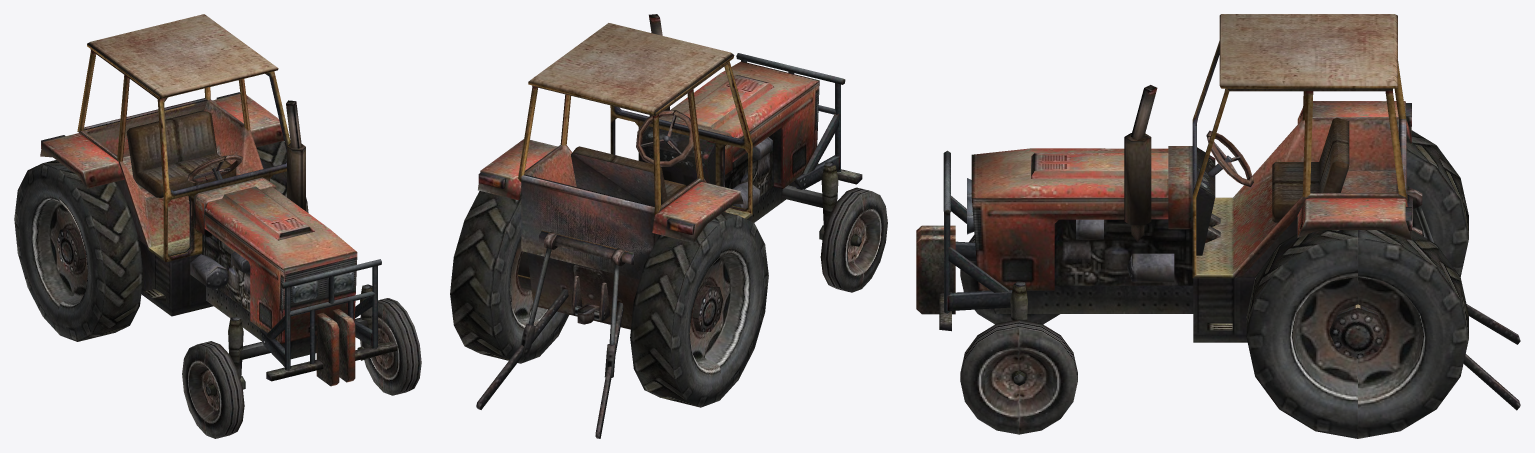
Rendered from tractor.glb.
3 views of the same model, side by side, from view 1: azimuth 30°, elevation 25°; view 2: azimuth 150°, elevation 25°; view 3: azimuth 270°, elevation 25° (orthographic). The views are drawn at different scales.
Parts seen in each view (by area): view 1: Object_2; view 2: Object_2; view 3: Object_2.
Part boxes in pixels (x1,y1,x2,y2): Object_2: (14,14,421,438); Object_2: (450,14,887,438); Object_2: (916,14,1520,438).
Bounding box in the file's own units: 1483 × 1821 × 3020.
Materials: 1 (1 with a texture image).
